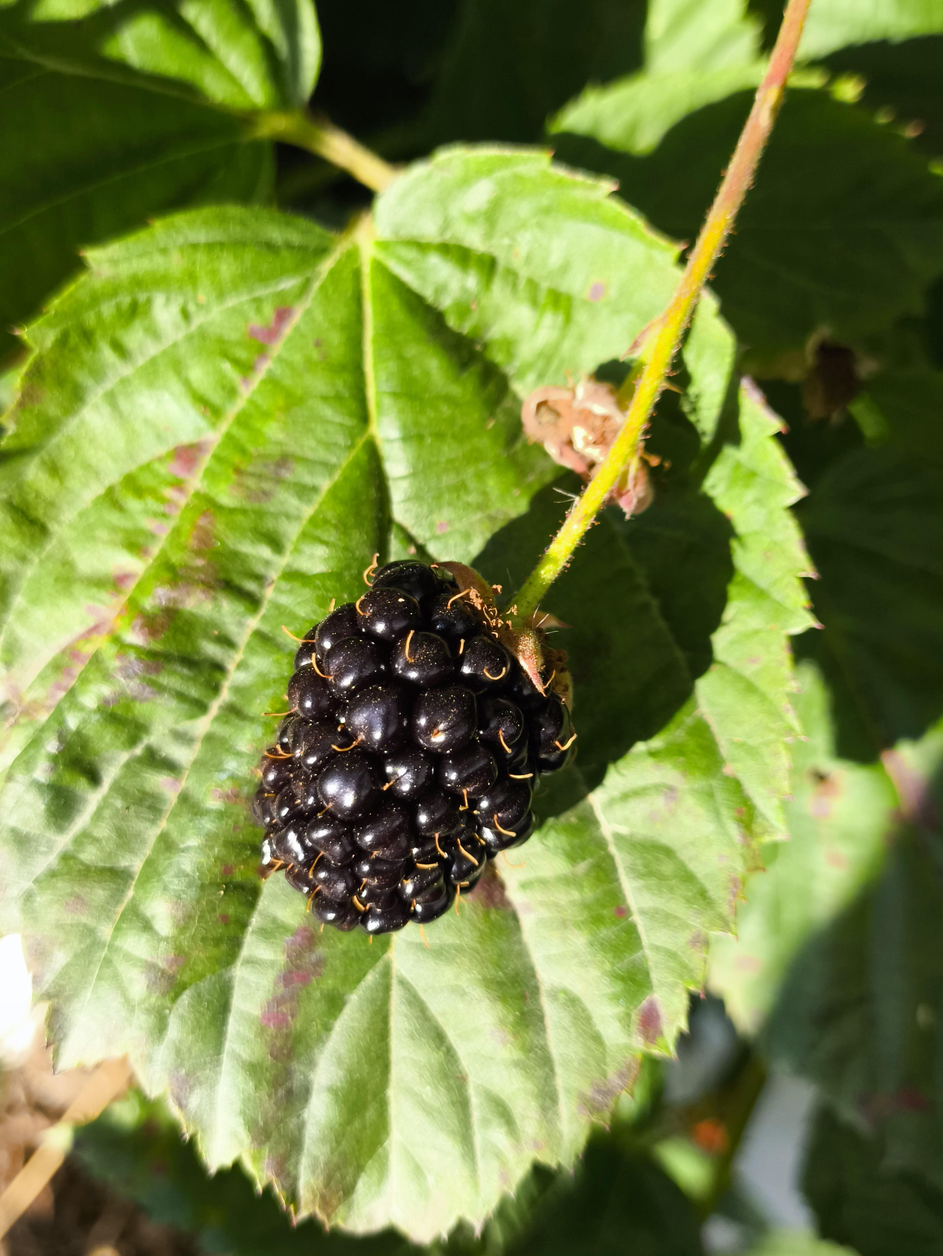maduro: (266, 562, 573, 914)
